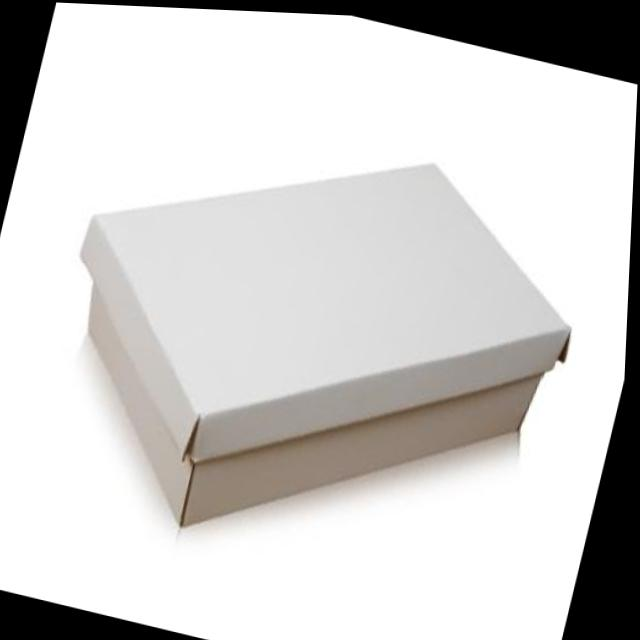box: (4, 72, 629, 613)
